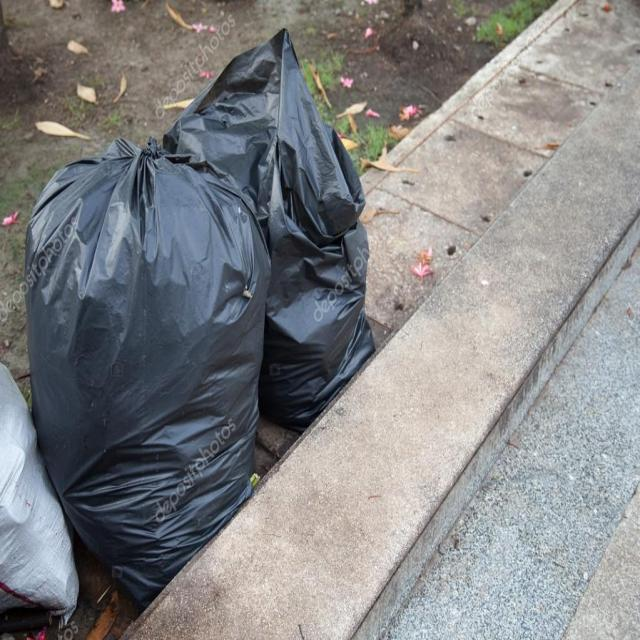sampah-detection: (22, 118, 273, 616), (191, 16, 389, 422)
